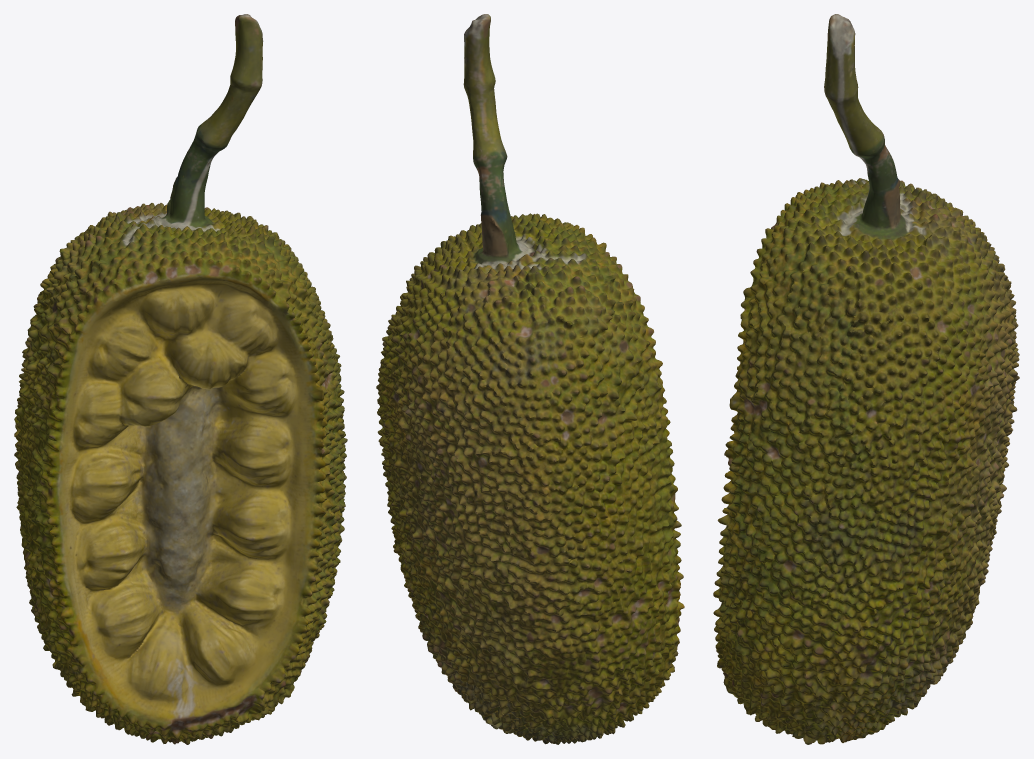
The picture shows the model from 3 angles, left to right: view 1: azimuth 30°, elevation 25°; view 2: azimuth 150°, elevation 25°; view 3: azimuth 270°, elevation 25°; orthographic projection. The views are drawn at different scales.
Visible parts, largest first — view 1: Object_2, Object_3; view 2: Object_2, Object_3; view 3: Object_3, Object_2.
Part boxes in pixels (<box>): Object_2: <box>14,14,345,744</box>; Object_3: <box>14,240,347,724</box>; Object_2: <box>376,14,684,742</box>; Object_3: <box>376,257,680,744</box>; Object_3: <box>715,269,1019,744</box>; Object_2: <box>713,14,1014,742</box>.
Size of the model in its own units: 183 by 430 by 160.
1 material, 1 textured.
